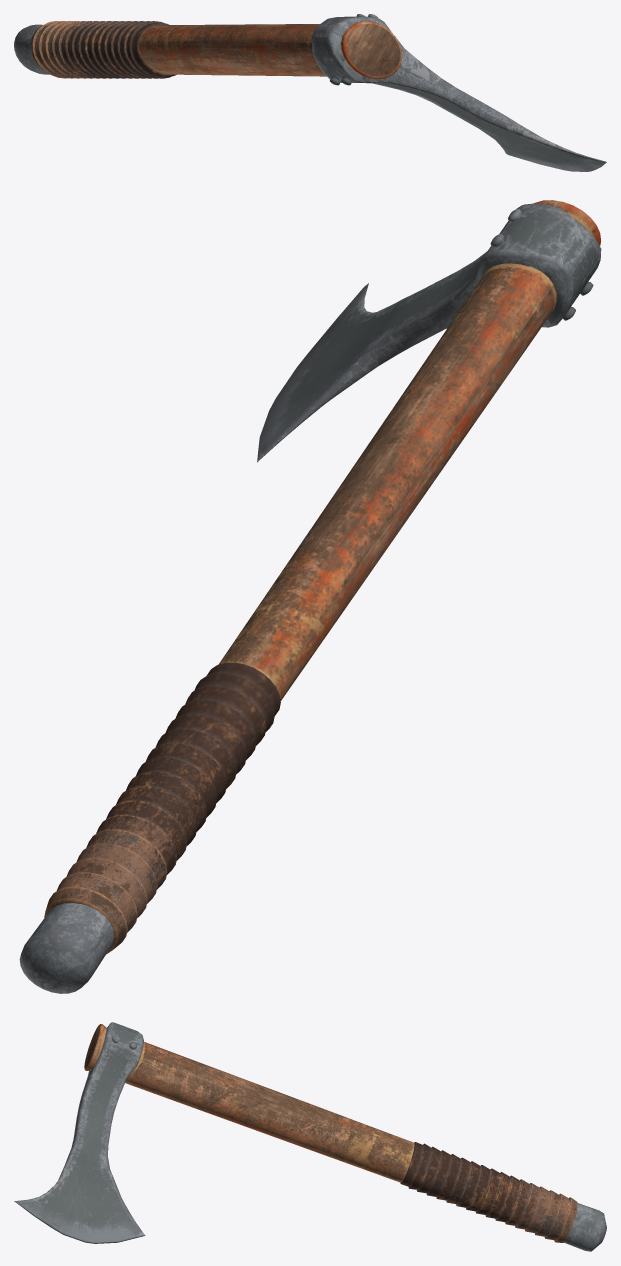
File: basic_medieval_axe.glb
The picture shows the model from 3 angles, top to bottom: view 1: azimuth 30°, elevation 25°; view 2: azimuth 150°, elevation 25°; view 3: azimuth 270°, elevation 25°; orthographic projection. The views are drawn at different scales.
Parts seen in each view (by area): view 1: Cylinder.001 (×3); view 2: Cylinder.001 (×3); view 3: Cylinder.001 (×3).
Part boxes in pixels (<box>): Cylinder.001 (×3): <box>14,14,606,171</box>; Cylinder.001 (×3): <box>19,200,601,993</box>; Cylinder.001 (×3): <box>14,1022,606,1251</box>.
Size of the model in its own units: 0.6776 by 0.8239 by 2.02.
Materials: 3 (3 with a texture image).
